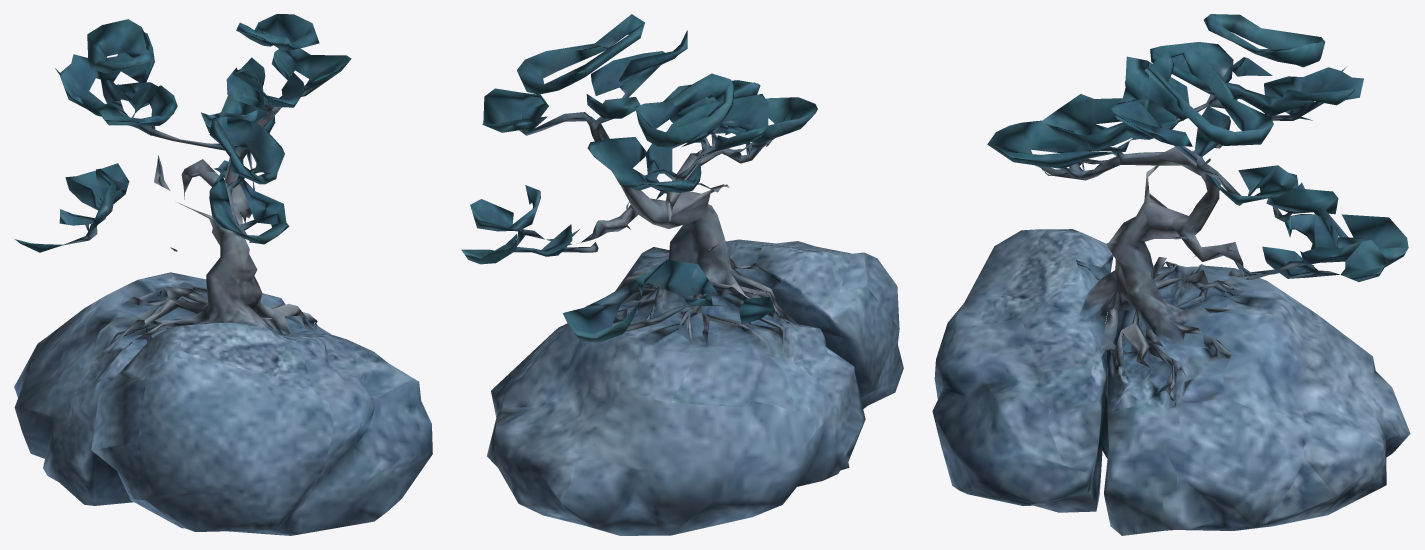
Rendered from pine_small.lod1.glb.
3 views of the same model, side by side, from view 1: azimuth 30°, elevation 25°; view 2: azimuth 150°, elevation 25°; view 3: azimuth 270°, elevation 25° (orthographic). The views are drawn at different scales.
Parts seen in each view (by area): view 1: tripo_node_8213dd10-a6a8-4798-8eb1-e68547004c4e; view 2: tripo_node_8213dd10-a6a8-4798-8eb1-e68547004c4e; view 3: tripo_node_8213dd10-a6a8-4798-8eb1-e68547004c4e.
Part boxes in pixels (x1=…): tripo_node_8213dd10-a6a8-4798-8eb1-e68547004c4e: x1=14, y1=14, x2=432, y2=535; tripo_node_8213dd10-a6a8-4798-8eb1-e68547004c4e: x1=461, y1=14, x2=903, y2=535; tripo_node_8213dd10-a6a8-4798-8eb1-e68547004c4e: x1=932, y1=14, x2=1410, y2=535.
Bounding box in the file's own units: 0.7871 × 0.995 × 0.9638.
Materials: 1 (1 with a texture image).
